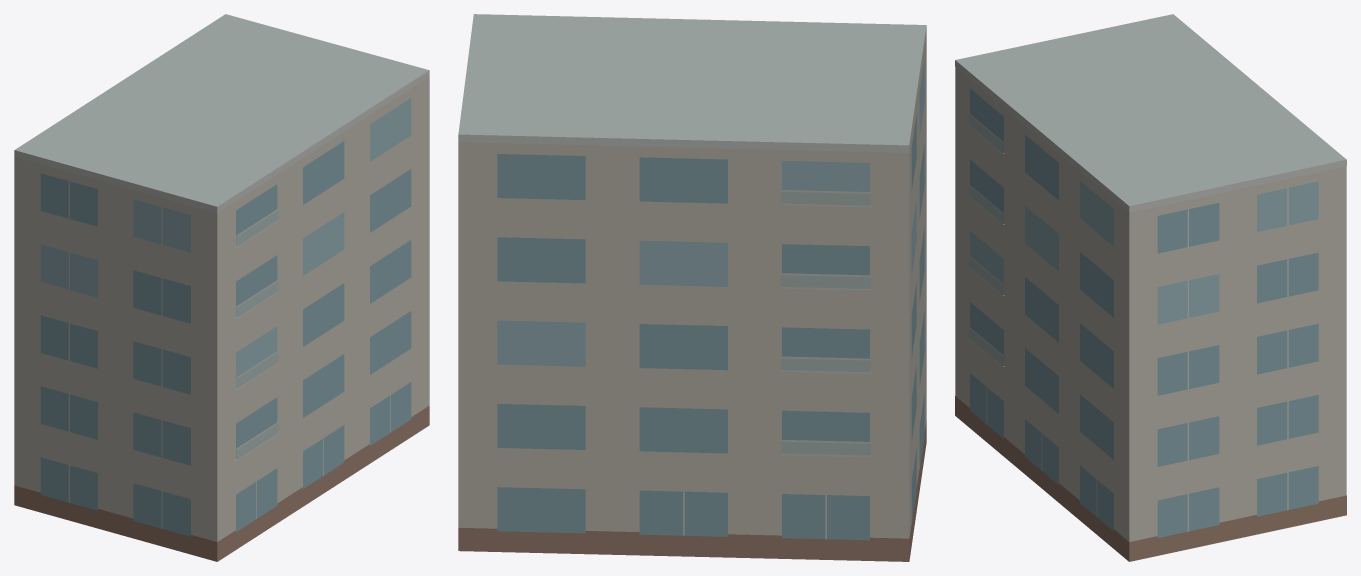
The model's file is survey-upis-32863848.glb.
3 views of the same model, side by side, from view 1: azimuth 30°, elevation 25°; view 2: azimuth 150°, elevation 25°; view 3: azimuth 270°, elevation 25° (orthographic). The views are drawn at different scales.
Parts seen in each view (by area): view 1: survey-upis-32863848.tmp; view 2: survey-upis-32863848.tmp; view 3: survey-upis-32863848.tmp.
Boxes of the visible parts, left/top/right/bottom form: survey-upis-32863848.tmp: left=14, top=14, right=429, bottom=561; survey-upis-32863848.tmp: left=458, top=14, right=926, bottom=561; survey-upis-32863848.tmp: left=955, top=14, right=1346, bottom=561.
Bounding box in the file's own units: 15.48 × 13.35 × 13.33.
